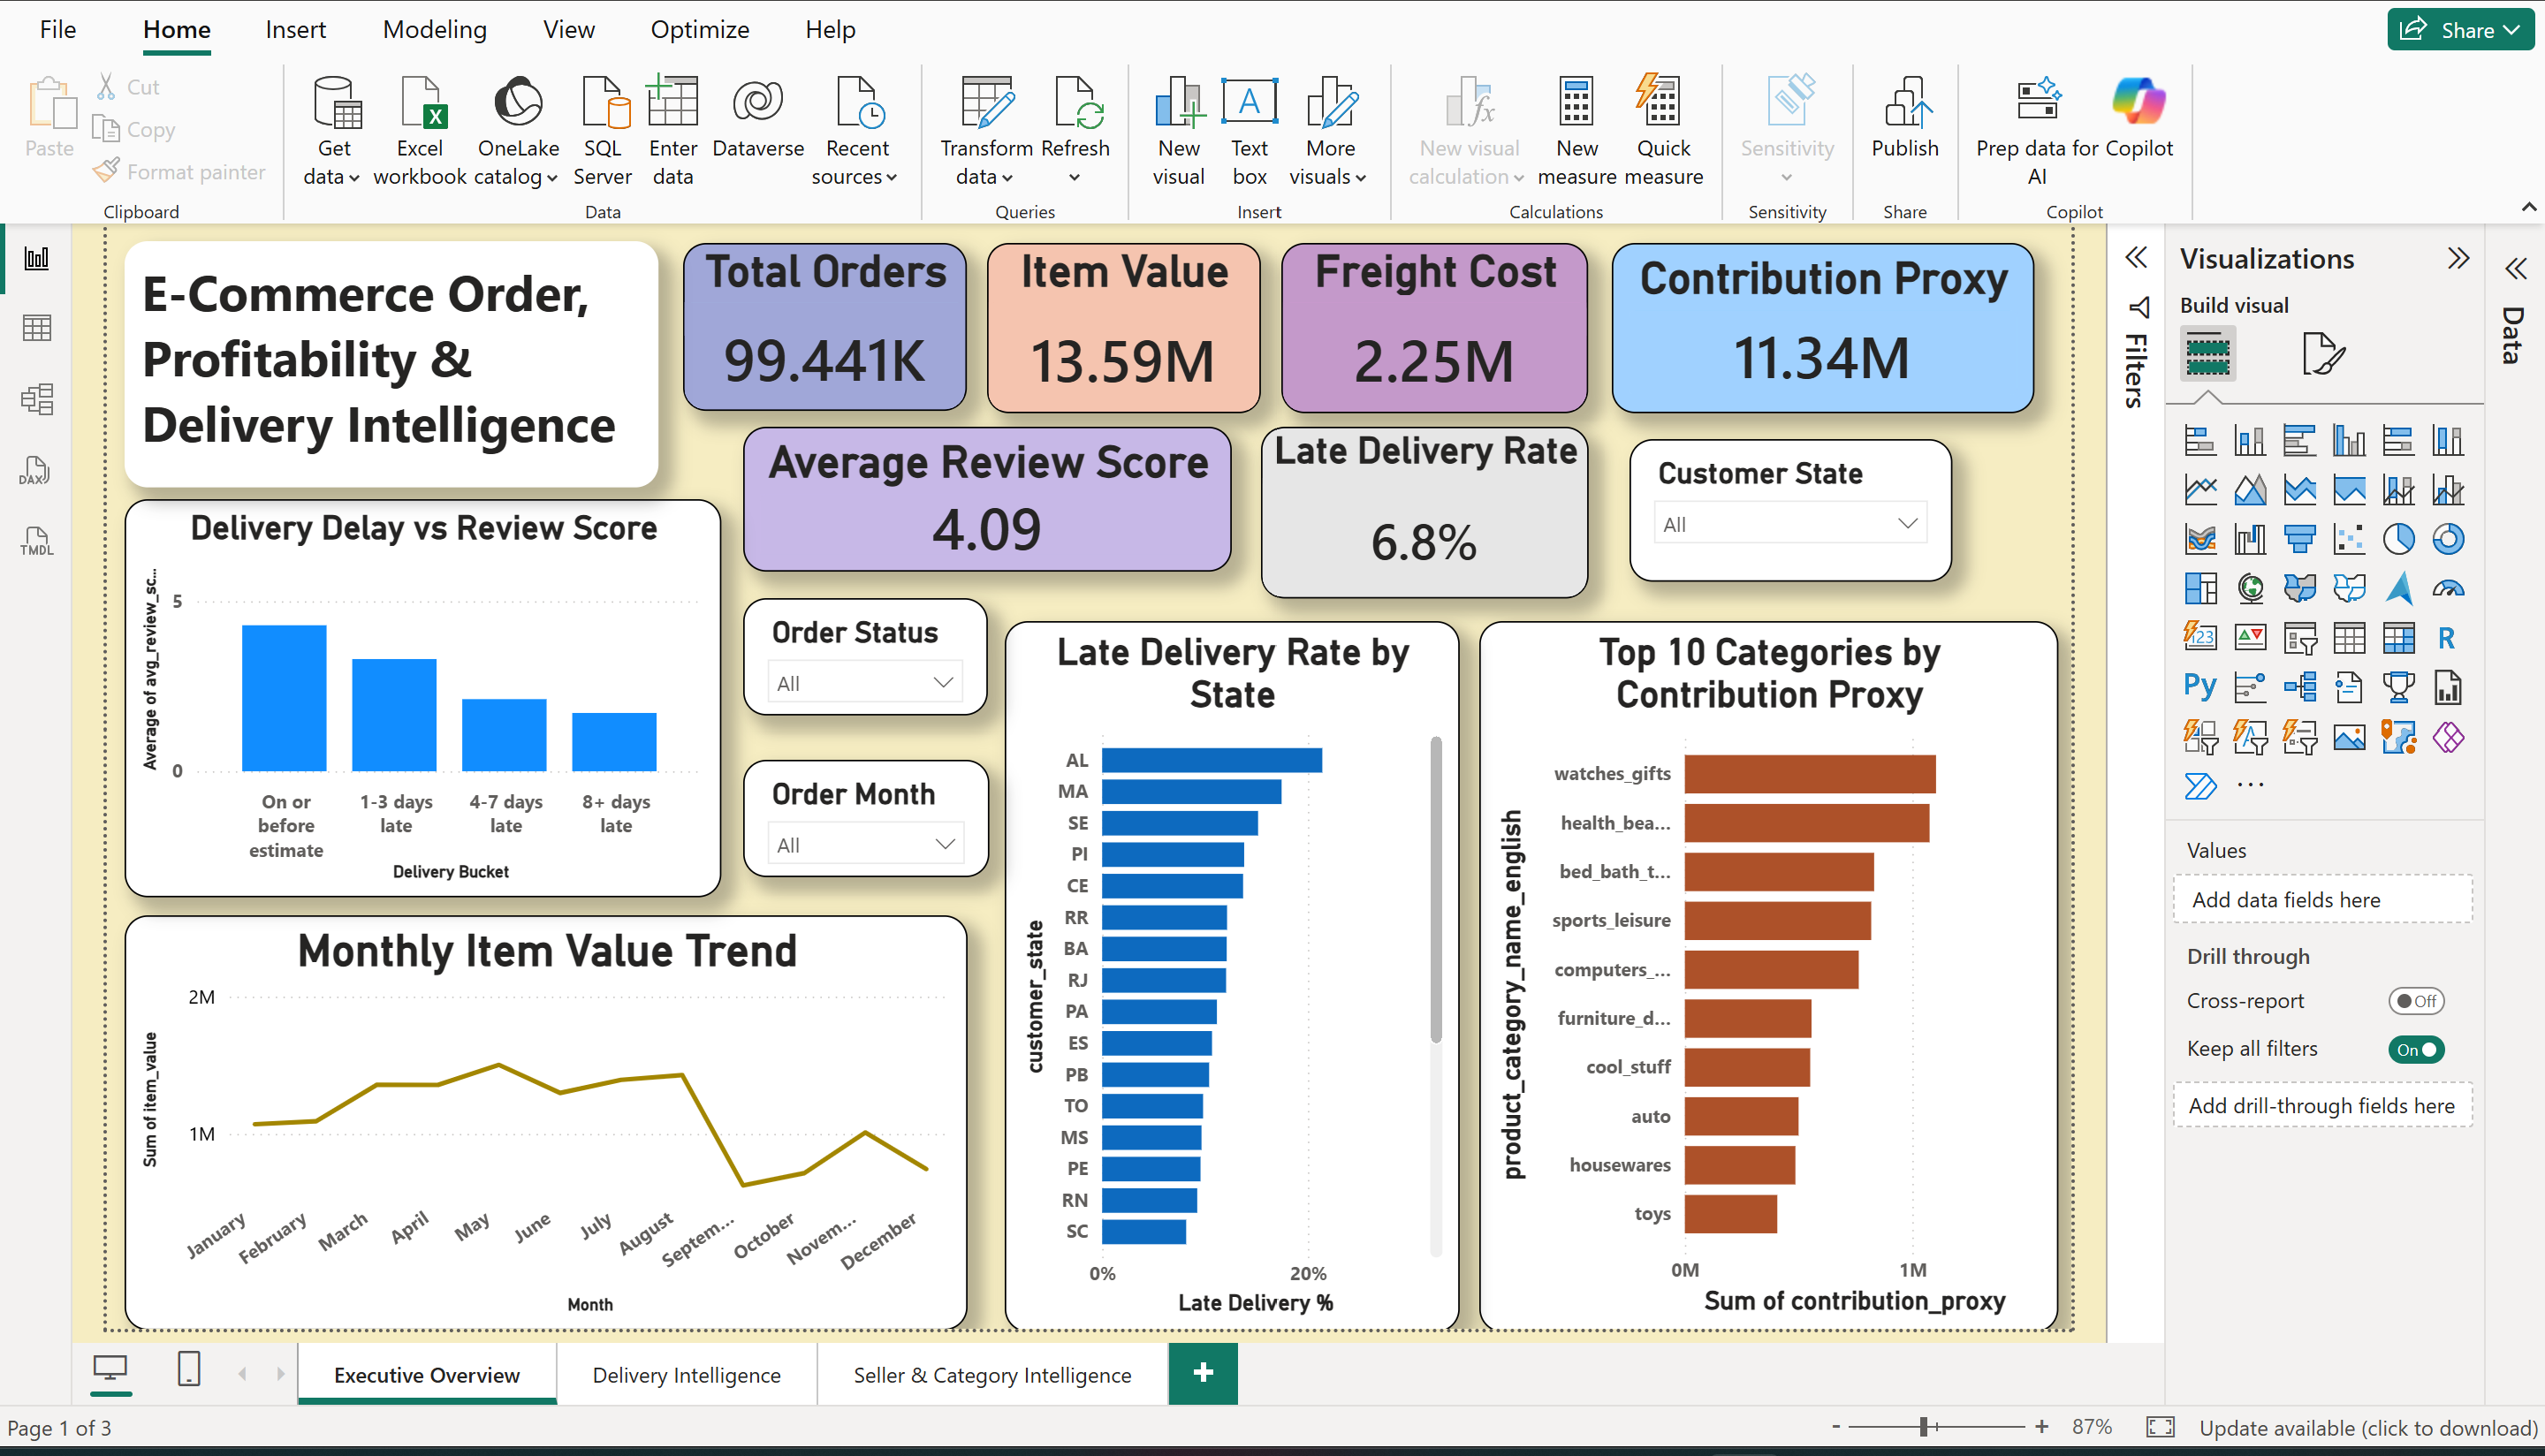

This screenshot's page, from the dashboard's own definition file:
{"tool":"powerbi","page":{"name":"Executive Overview","canvas":[1280,720],"ordinal":0},"visuals":[{"type":"cardVisual","title":"Total Orders","fields":{"Data":["CountNonNull(orders_master.order_id)"]},"box":[376.1,12.7,184.9,109.6],"z":0},{"type":"cardVisual","title":"Item Value","fields":{"Data":["Sum(orders_master.item_value)"]},"box":[573.7,12.7,178.5,110.9],"z":1000},{"type":"cardVisual","title":"Freight Cost","fields":{"Data":["Sum(orders_master.freight_value)"]},"box":[764.9,12.7,200.2,110.9],"z":2000},{"type":"cardVisual","title":"Contribution Proxy","fields":{"Data":["Sum(orders_master.contribution_proxy)"]},"box":[980.4,12.7,275.4,110.9],"z":3000},{"type":"cardVisual","title":"Average Review Score","fields":{"Data":["Avg(orders_master.avg_review_score)"]},"box":[414.3,132.6,318.7,94.3],"z":4000},{"type":"cardVisual","title":"Late Delivery Rate","fields":{"Data":["orders_master.Late Delivery %"]},"box":[752.2,132.6,212.9,112.2],"z":5000},{"type":"lineChart","title":"Monthly Item Value Trend","fields":{"Category":["orders_master.order_month.Variation.Date Hierarchy.Month"],"Y":["Sum(orders_master.item_value)"]},"box":[11.5,450,549.5,270.3],"z":6000},{"type":"clusteredBarChart","title":"Top 10 Categories by Contribution Proxy","fields":{"Category":["order_items_enriched.product_category_name_english"],"Y":["Sum(order_items_enriched.contribution_proxy)"]},"box":[893.7,258.8,377.4,462.8],"z":7000},{"type":"clusteredBarChart","title":"Late Delivery Rate by State","fields":{"Category":["orders_master.customer_state"],"Y":["orders_master.Late Delivery %"]},"box":[585.2,258.8,295.8,462.8],"z":8000},{"type":"clusteredColumnChart","title":"Delivery Delay vs Review Score","fields":{"Category":["orders_master.Delivery Bucket"],"Y":["Avg(orders_master.avg_review_score)"]},"box":[11.5,179.8,388.8,258.8],"z":9000},{"type":"slicer","fields":{"Values":["orders_master.customer_state"]},"box":[991.9,140.2,210.4,93.1],"z":10000},{"type":"slicer","fields":{"Values":["orders_master.order_status"]},"box":[414.3,244.8,159.4,76.5],"z":11000},{"type":"slicer","fields":{"Values":["orders_master.order_month"]},"box":[414.3,349.3,160.6,76.5],"z":12000},{"type":"textbox","box":[11.5,11.5,348,160.6],"z":13000}]}

Visuals, with their boxes on the page's 1280x720 design canvas (x1, y1, x2, y2). These are canvas units, not pixel positions in the 2545x1456 screenshot, which may show the page scaled, cropped or inside an application window:
"Total Orders" cardVisual: crop(376, 13, 561, 122)
"Item Value" cardVisual: crop(574, 13, 752, 124)
"Freight Cost" cardVisual: crop(765, 13, 965, 124)
"Contribution Proxy" cardVisual: crop(980, 13, 1256, 124)
"Average Review Score" cardVisual: crop(414, 133, 733, 227)
"Late Delivery Rate" cardVisual: crop(752, 133, 965, 245)
"Monthly Item Value Trend" lineChart: crop(12, 450, 561, 720)
"Top 10 Categories by Contribution Proxy" clusteredBarChart: crop(894, 259, 1271, 722)
"Late Delivery Rate by State" clusteredBarChart: crop(585, 259, 881, 722)
"Delivery Delay vs Review Score" clusteredColumnChart: crop(12, 180, 400, 439)
slicer - orders_master.customer_state: crop(992, 140, 1202, 233)
slicer - orders_master.order_status: crop(414, 245, 574, 321)
slicer - orders_master.order_month: crop(414, 349, 575, 426)
textbox: crop(12, 12, 360, 172)
